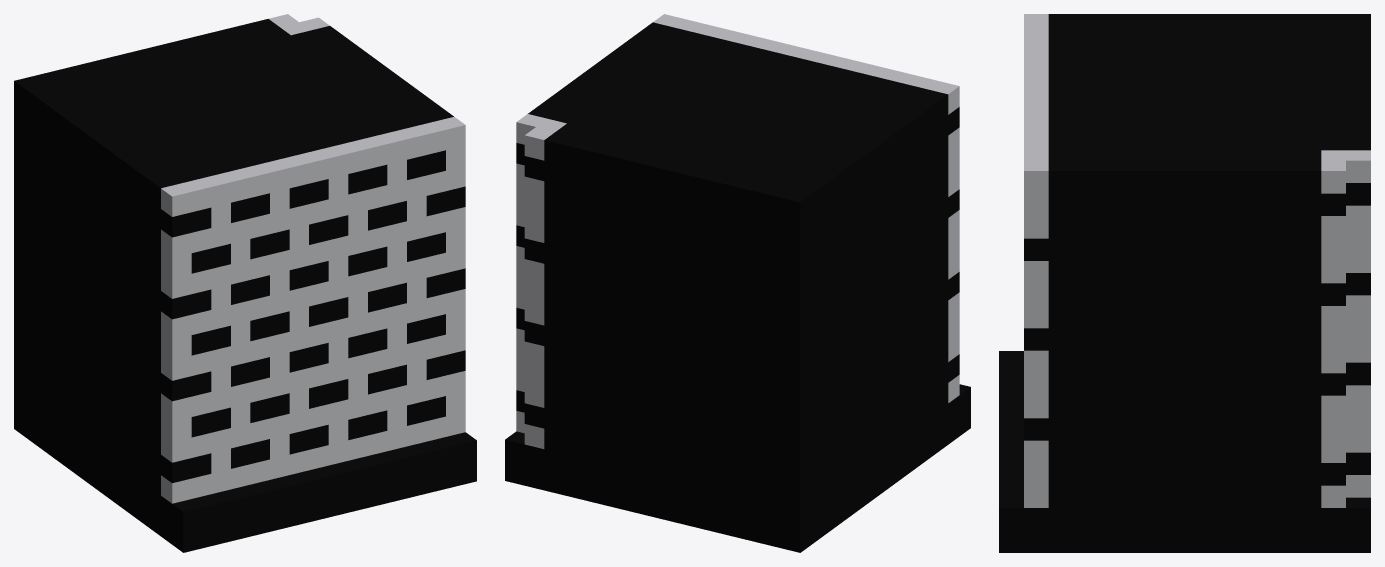
File: dungeon_d_b_outer_wall_segment_c_flipped.obj
The picture shows the model from 3 angles, left to right: view 1: azimuth 30°, elevation 25°; view 2: azimuth 150°, elevation 25°; view 3: azimuth 270°, elevation 25°; orthographic projection. The views are drawn at different scales.
Bounding box in the file's own units: 1.5 × 1.7 × 1.5.
Materials: 1 (1 with a texture image).
